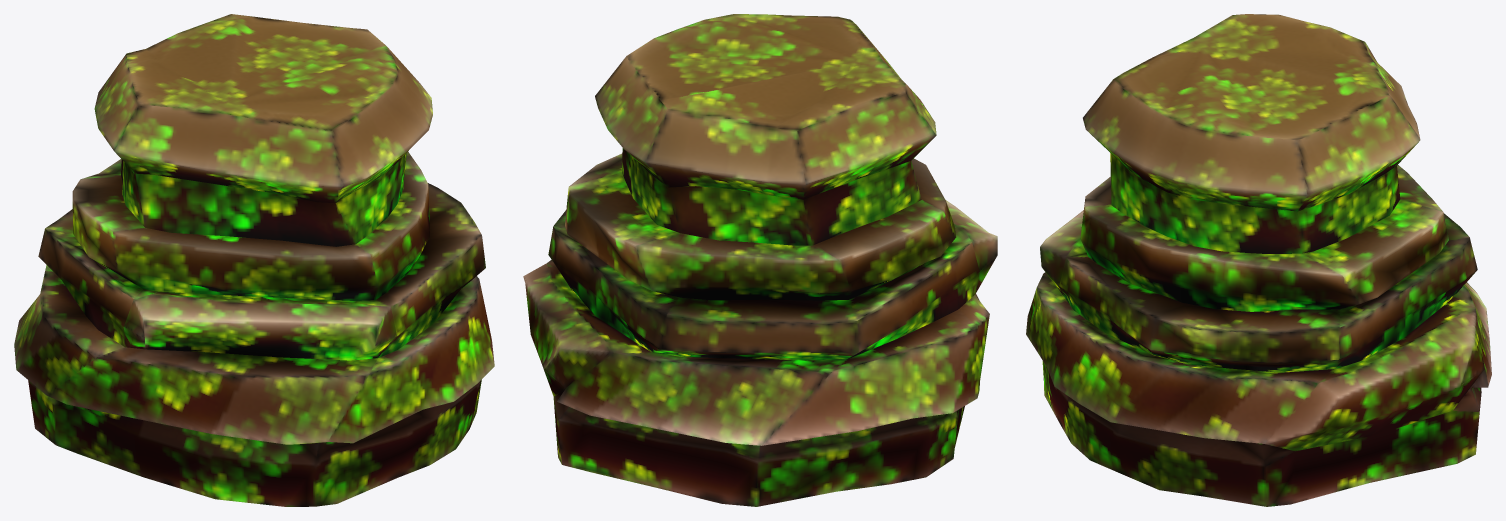
File: rock.fbx
3 renders of one model, left to right at view 1: azimuth 30°, elevation 25°; view 2: azimuth 150°, elevation 25°; view 3: azimuth 270°, elevation 25°, orthographic. The views are drawn at different scales.
Visible parts, largest first — view 1: rock_slab_002_mesh; view 2: rock_slab_002_mesh; view 3: rock_slab_002_mesh.
Part boxes in pixels (x1=…): rock_slab_002_mesh: x1=14, y1=14, x2=494, y2=506; rock_slab_002_mesh: x1=523, y1=14, x2=997, y2=506; rock_slab_002_mesh: x1=1026, y1=14, x2=1491, y2=506.
Size of the model in its own units: 187 by 148 by 181.
